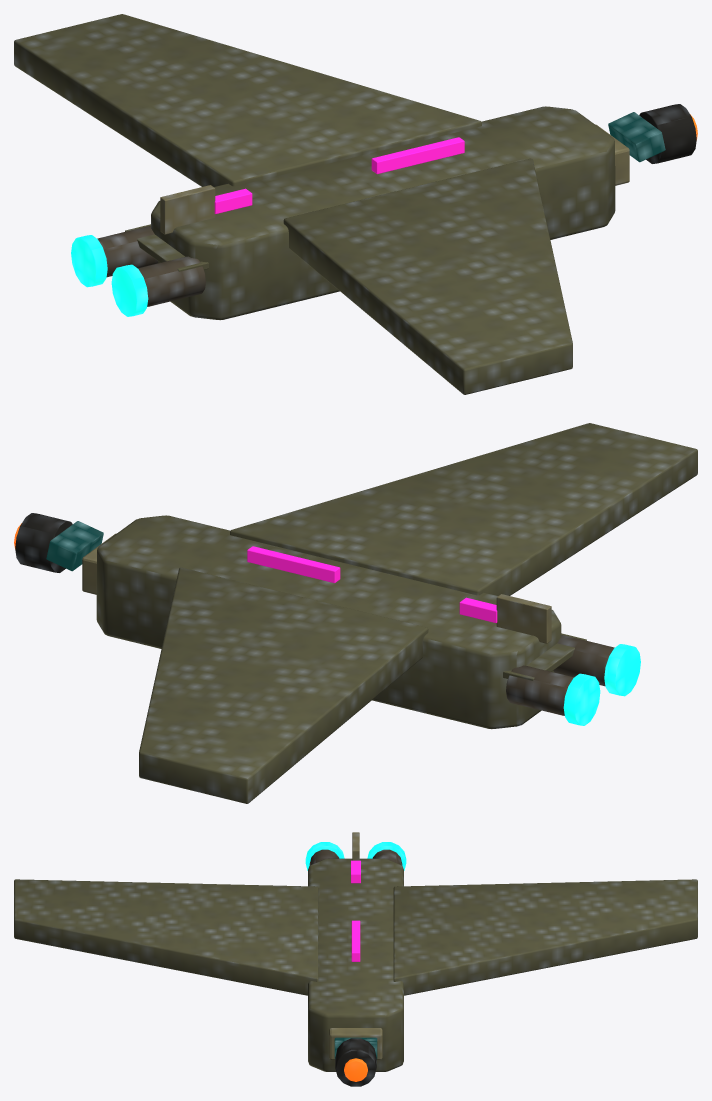
Rendered from ornithopter.glb.
The picture shows the model from 3 angles, top to bottom: view 1: azimuth 30°, elevation 25°; view 2: azimuth 150°, elevation 25°; view 3: azimuth 270°, elevation 25°; orthographic projection. The views are drawn at different scales.
Visible parts, largest first — view 1: Sandwar3D; view 2: Sandwar3D; view 3: Sandwar3D.
Part boxes in pixels (bbox=[...]): Sandwar3D: bbox=[14, 14, 697, 394]; Sandwar3D: bbox=[14, 423, 697, 803]; Sandwar3D: bbox=[14, 832, 697, 1086].
Bounding box in the file's own units: 3 × 0.525 × 4.
Materials: 8 (7 with a texture image).
